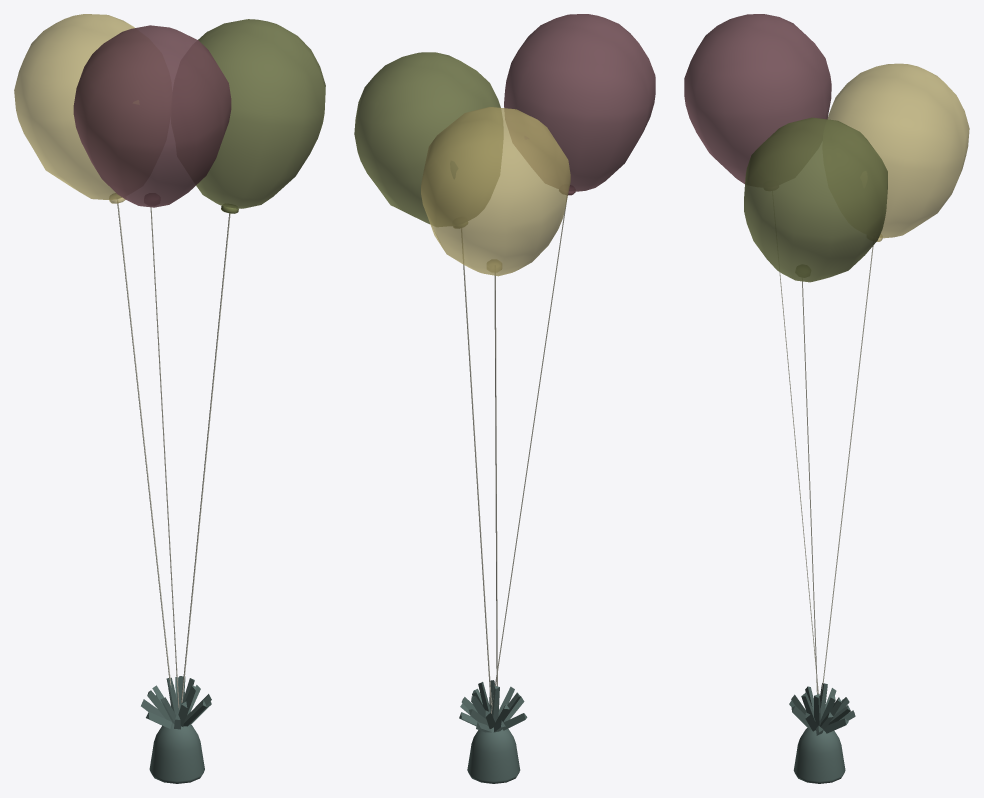
Rendered from BalloonCluster1.fbx.
The picture shows the model from 3 angles, left to right: view 1: azimuth 30°, elevation 25°; view 2: azimuth 150°, elevation 25°; view 3: azimuth 270°, elevation 25°; orthographic projection. The views are drawn at different scales.
Visible parts, largest first — view 1: BalloonCluster_1; view 2: BalloonCluster_1; view 3: BalloonCluster_1.
Part boxes in pixels (x1=…): BalloonCluster_1: x1=14, y1=14, x2=325, y2=783; BalloonCluster_1: x1=354, y1=14, x2=655, y2=783; BalloonCluster_1: x1=684, y1=14, x2=969, y2=783.
Bounding box in the file's own units: 95.03 × 269 × 95.55.
